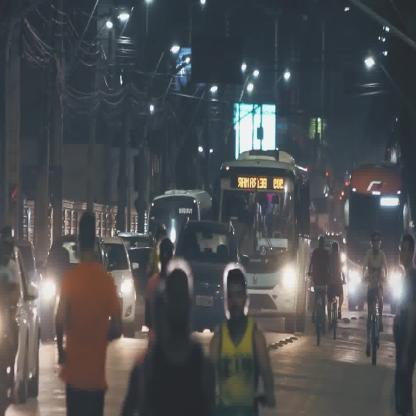bus: (218, 148, 310, 336), (346, 165, 406, 309)
car: (179, 220, 239, 336)
motorcycle: (364, 233, 386, 361), (308, 235, 328, 347), (328, 242, 342, 338)
